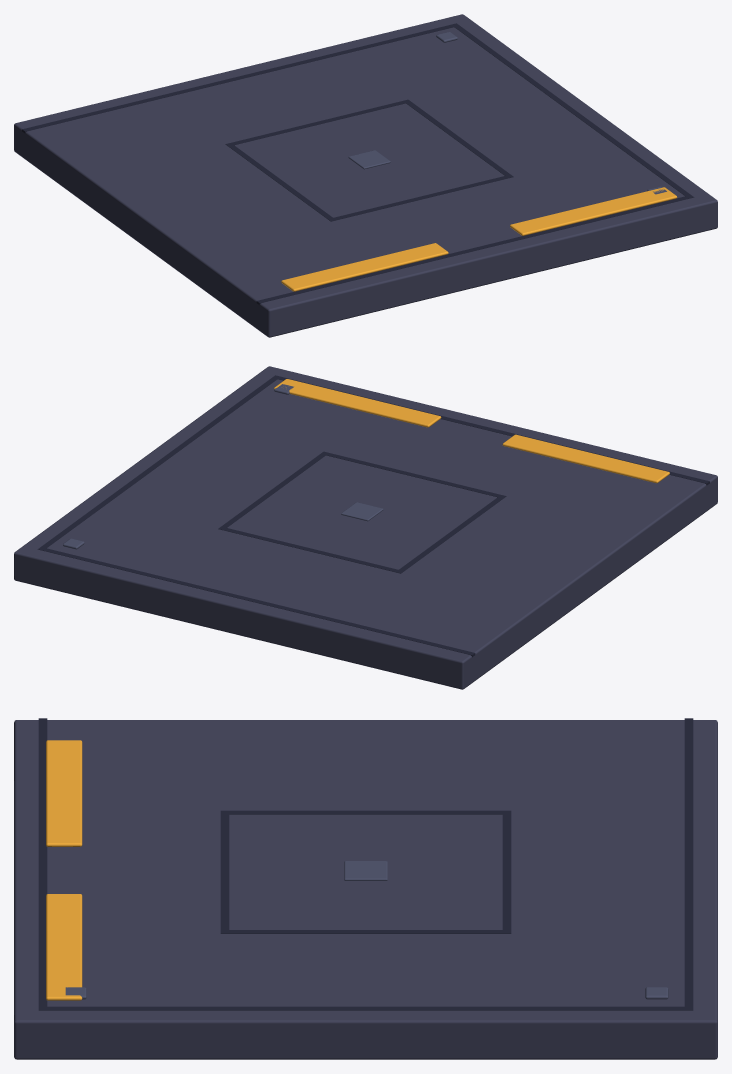
The model's file is floor.plate.ESN+sub+hzd.glb.
The picture shows the model from 3 angles, top to bottom: view 1: azimuth 30°, elevation 25°; view 2: azimuth 150°, elevation 25°; view 3: azimuth 270°, elevation 25°; orthographic projection. The views are drawn at different scales.
Visible parts, largest first — view 1: floor.plate.ESN+sub+hzd; view 2: floor.plate.ESN+sub+hzd; view 3: floor.plate.ESN+sub+hzd.
Part boxes in pixels (x1=…): floor.plate.ESN+sub+hzd: x1=14, y1=14, x2=717, y2=337; floor.plate.ESN+sub+hzd: x1=14, y1=366, x2=717, y2=689; floor.plate.ESN+sub+hzd: x1=14, y1=718, x2=717, y2=1059.
Size of the model in its own units: 0.984 by 0.066 by 0.968.
